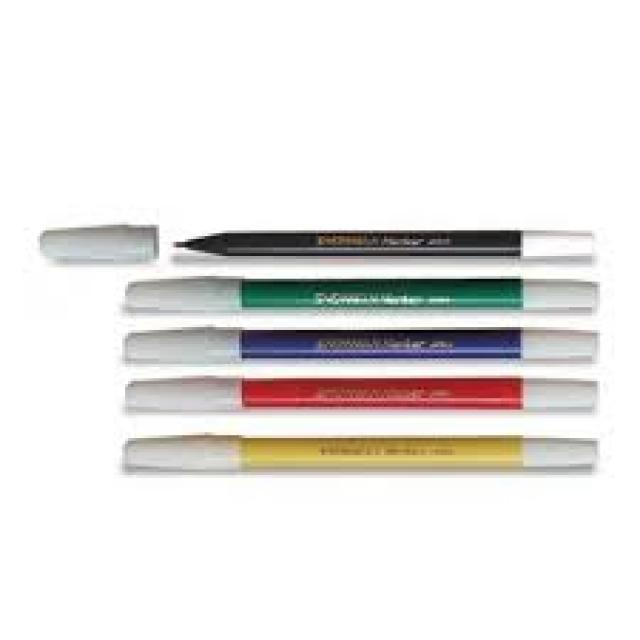marker: (122, 373, 602, 415), (127, 435, 601, 474), (127, 276, 599, 310)
